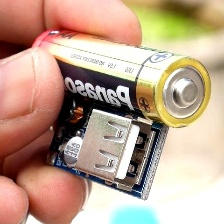battery: (26, 24, 213, 134)
